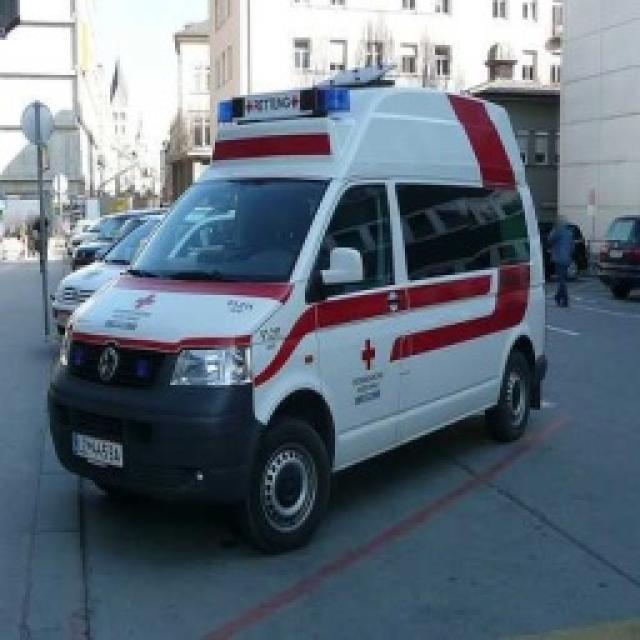ambulance: (11, 42, 606, 551)
